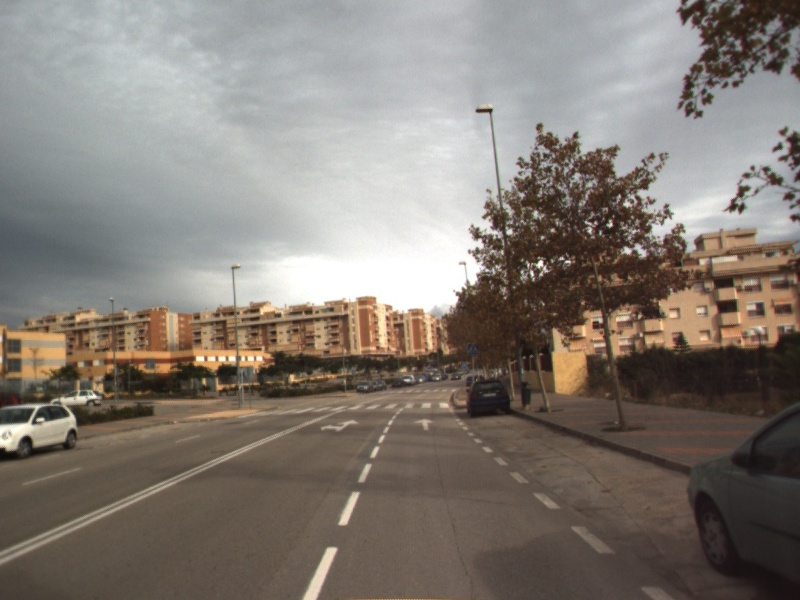STRAIGHT: (412, 416, 438, 432)
STRAIGHT_LEFT: (318, 417, 361, 433)
